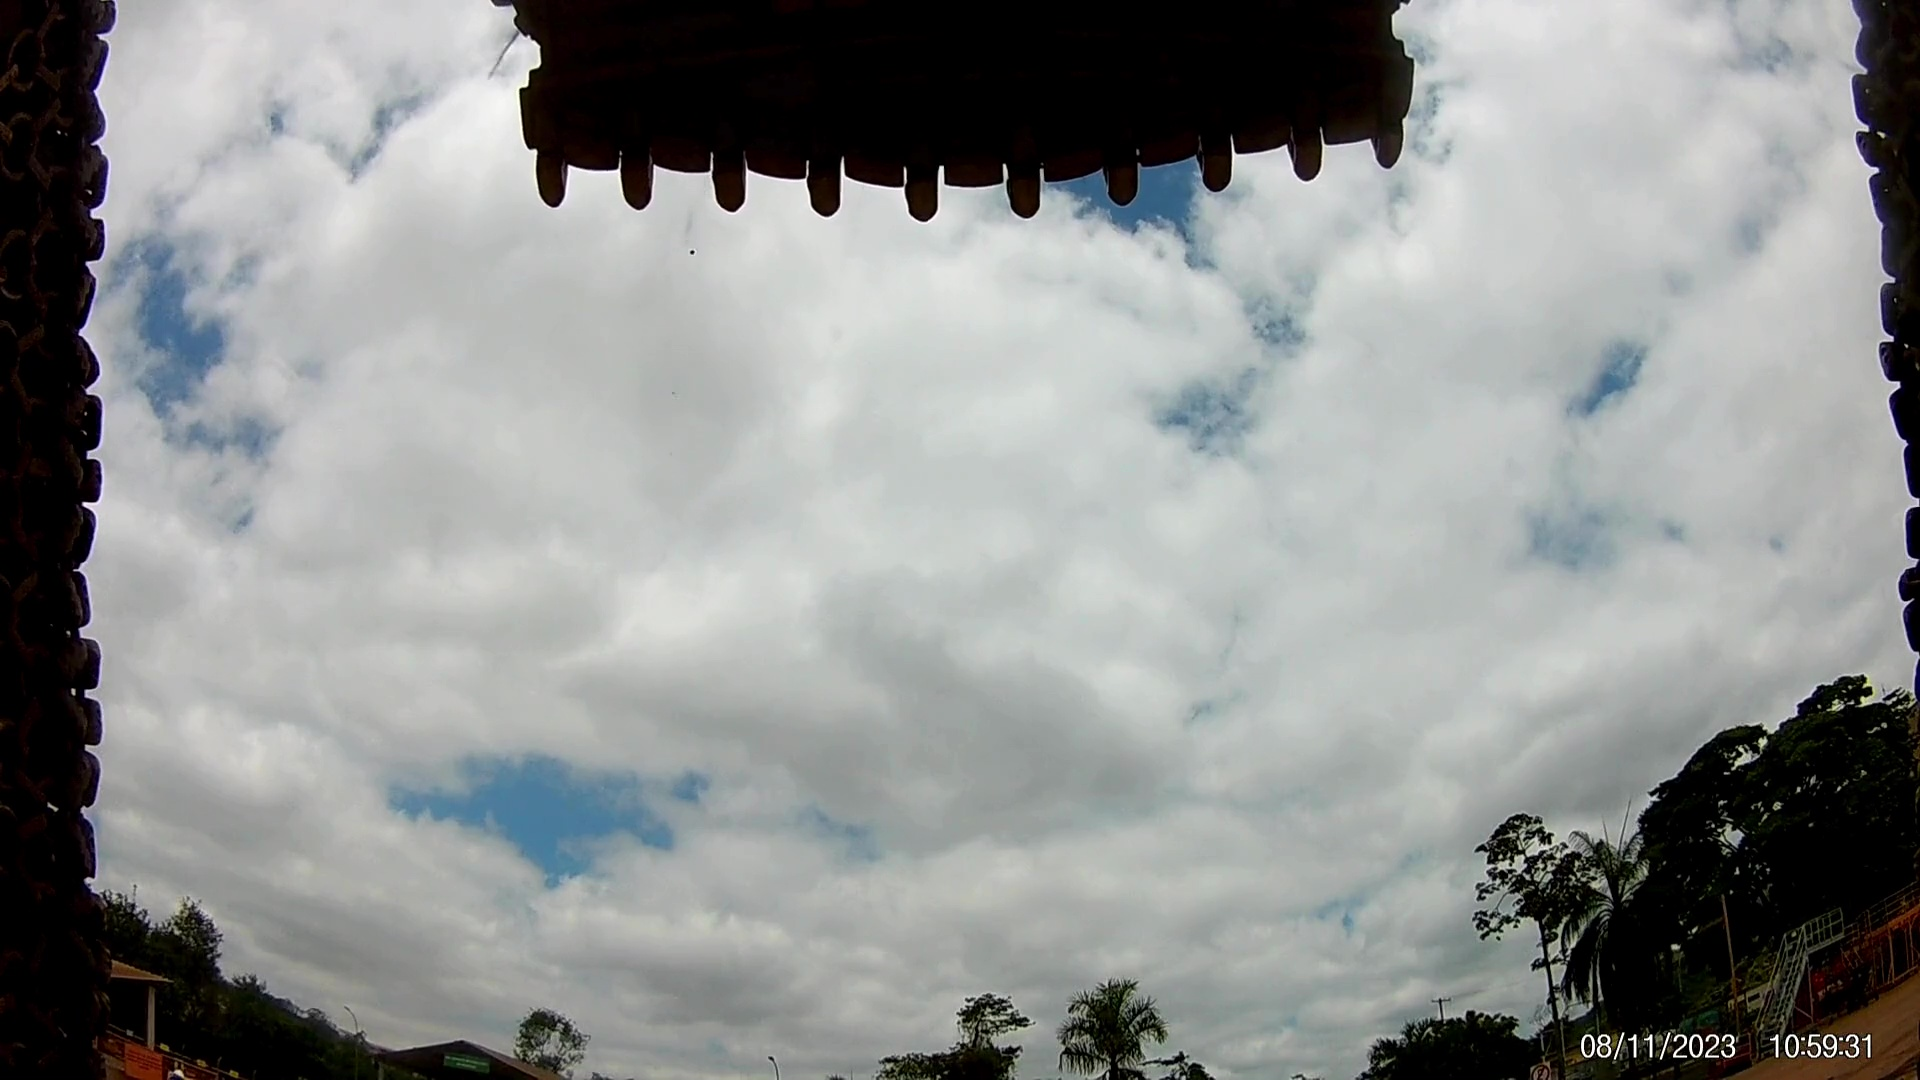FPS: (985, 156, 1048, 231), (717, 141, 766, 233), (516, 150, 568, 222), (793, 169, 856, 225), (1192, 138, 1251, 198), (613, 148, 655, 229), (1280, 119, 1332, 179), (1101, 157, 1147, 224), (905, 167, 949, 222), (1379, 115, 1414, 175)
